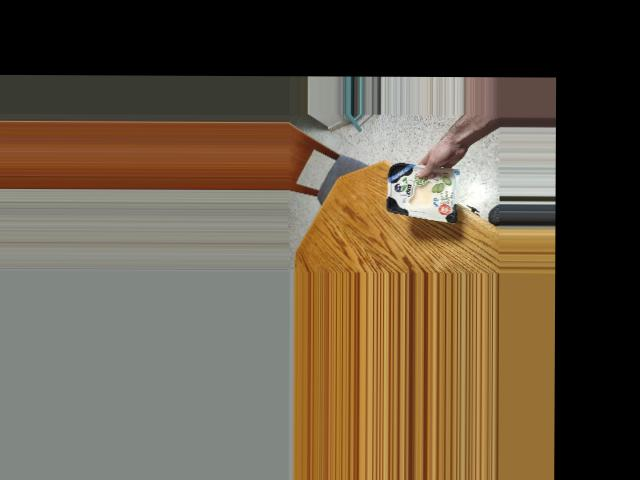cheese: (376, 159, 467, 222)
